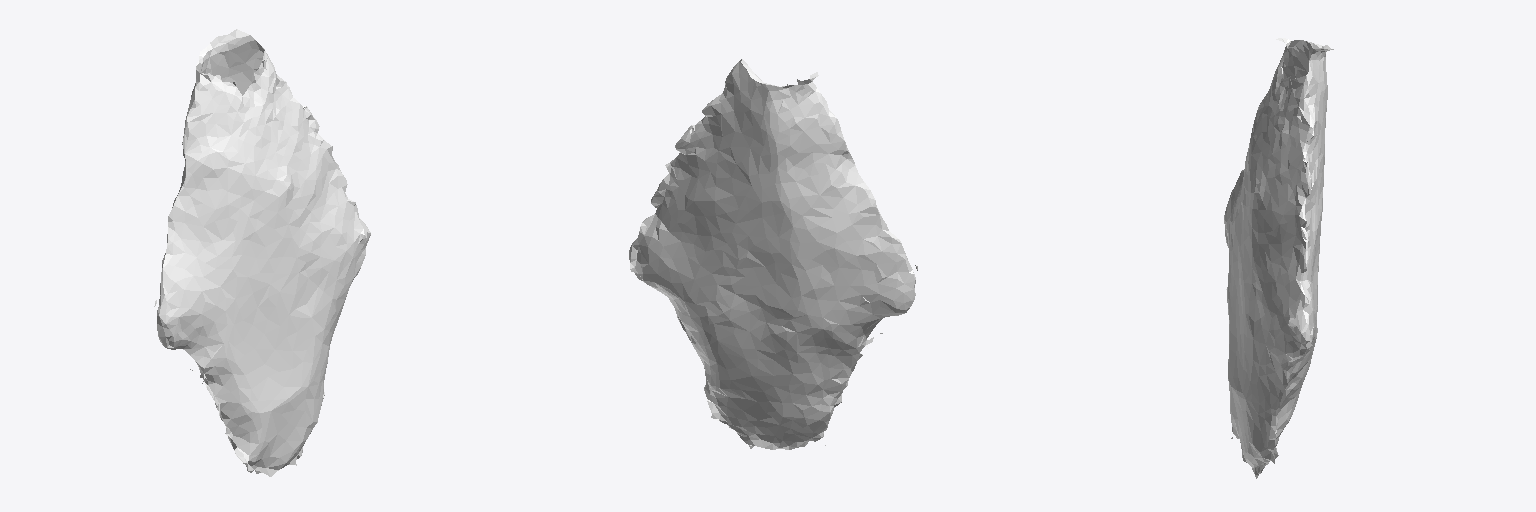
File: pc344real.obj
3 views of the same model, side by side, from view 1: azimuth 30°, elevation 25°; view 2: azimuth 150°, elevation 25°; view 3: azimuth 270°, elevation 25° (orthographic).
Visible parts, largest first — view 1: pc344; view 2: pc344; view 3: pc344.
Part boxes in pixels (x1,y1,x2,y2): pc344: (154,29,370,476); pc344: (629,59,917,449); pc344: (1224,38,1333,478).
Size of the model in its own units: 0.3918 by 0.6219 by 0.1508.